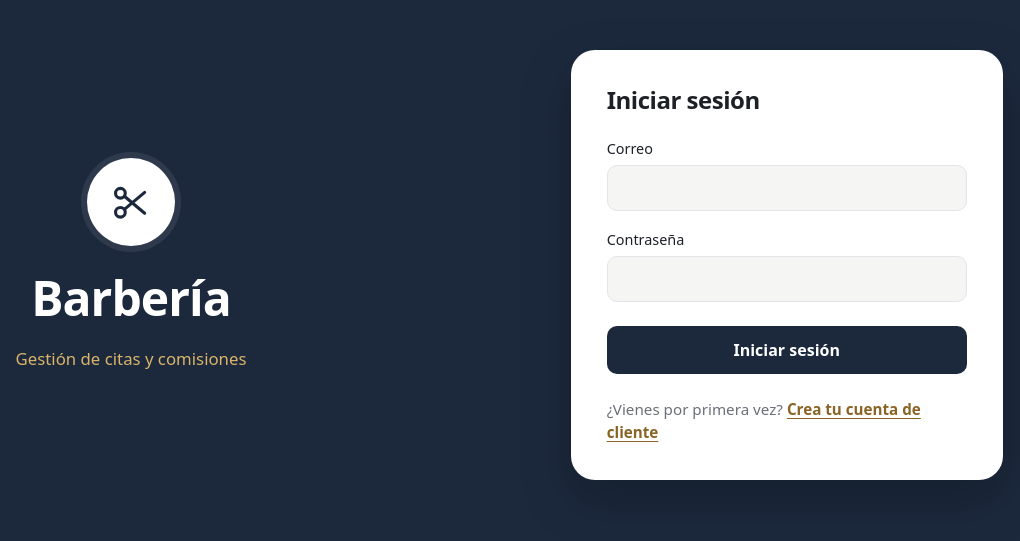
it: inicio de sesión (HU-22, HU-23, HU-24) › pide los dos campos antes de enviar
Click the button "Iniciar sesión".
click(787, 350)  # box [607,326,967,374]
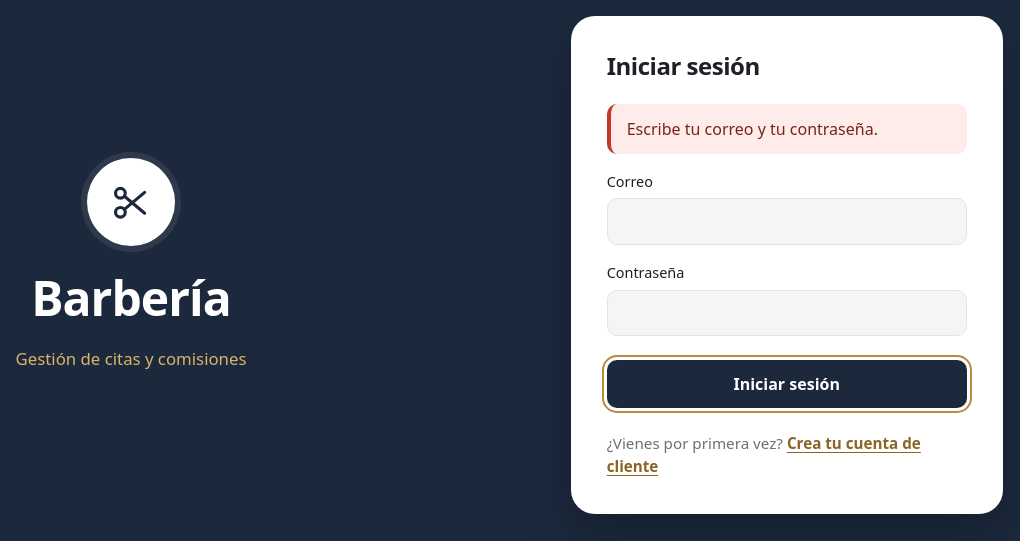
Result: the message reads "Escribe tu correo y tu contraseña." at [627,118,878,140]
